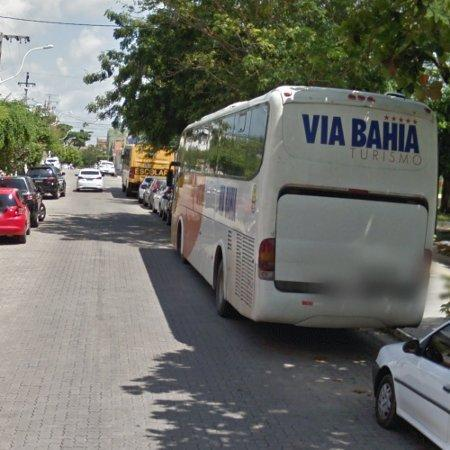buses: (172, 86, 438, 328)
